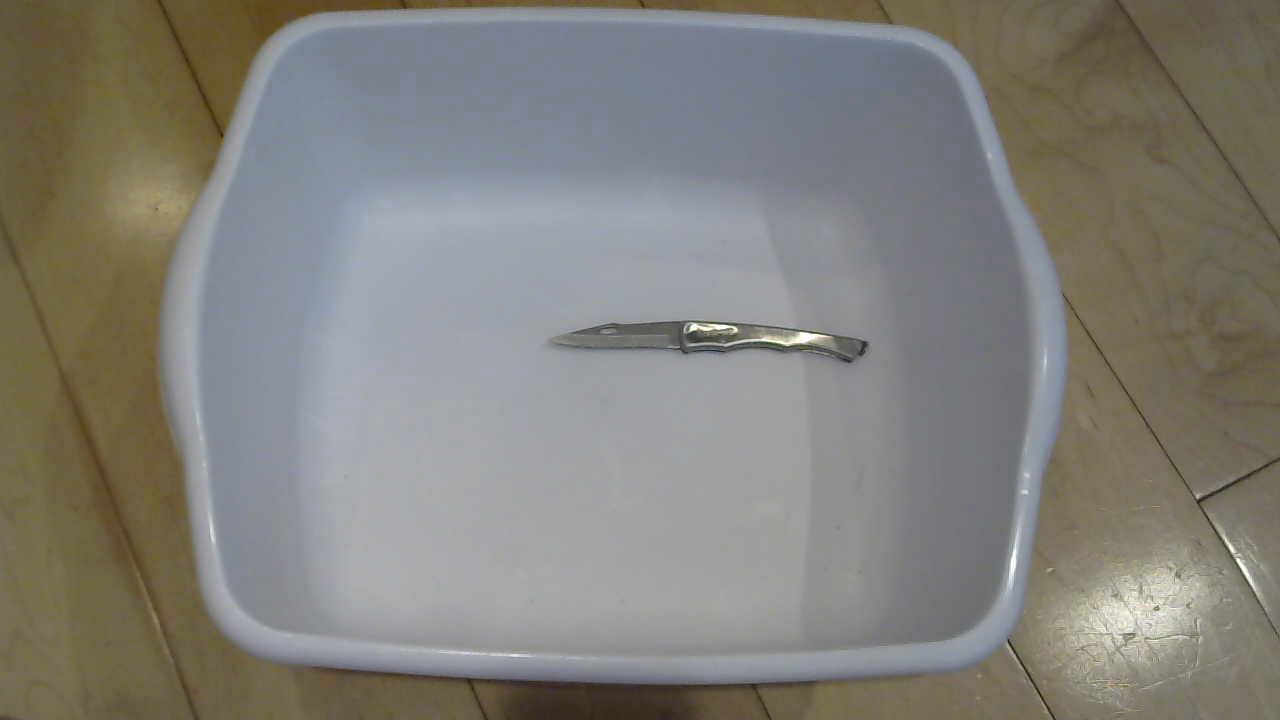knife: (526, 297, 901, 402)
